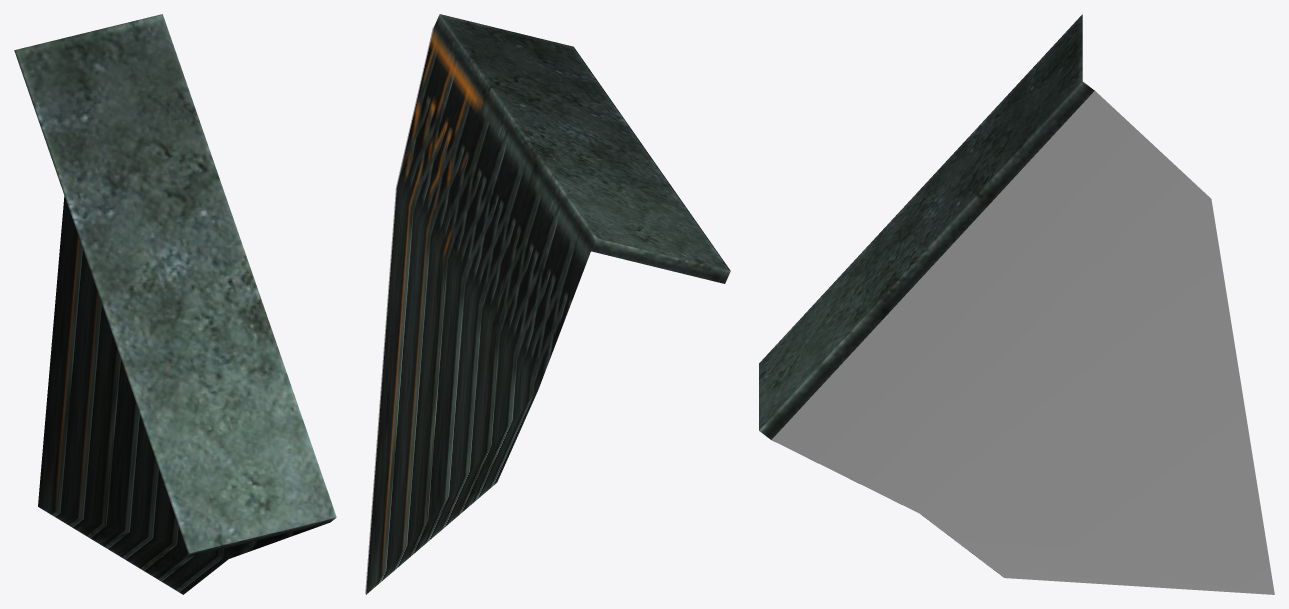
3 views of the same model, side by side, from view 1: azimuth 30°, elevation 25°; view 2: azimuth 150°, elevation 25°; view 3: azimuth 270°, elevation 25° (orthographic). The views are drawn at different scales.
Visible parts, largest first — view 1: xs_wj12; view 2: xs_wj12; view 3: xs_wj12.
Boxes of the visible parts, x1,y1,x2,y2 form: xs_wj12: (14, 14, 336, 594); xs_wj12: (365, 14, 730, 594); xs_wj12: (759, 14, 1274, 594).
Bounding box in the file's own units: 298 × 1073 × 958.
